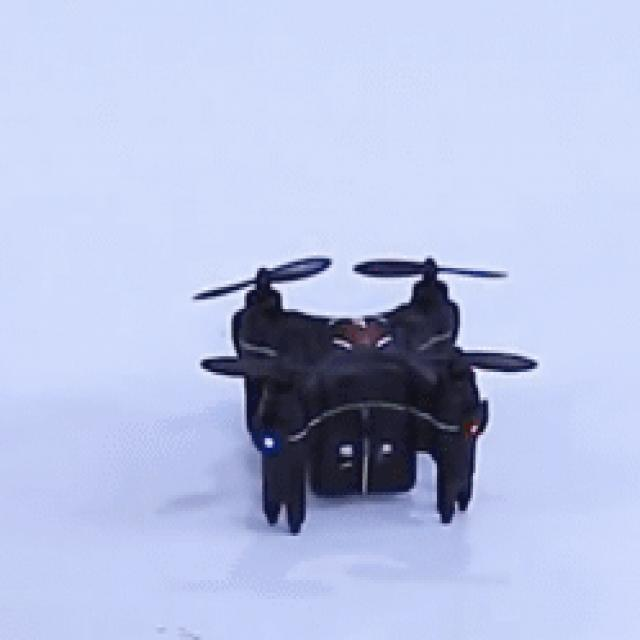drones: (190, 243, 548, 551)
